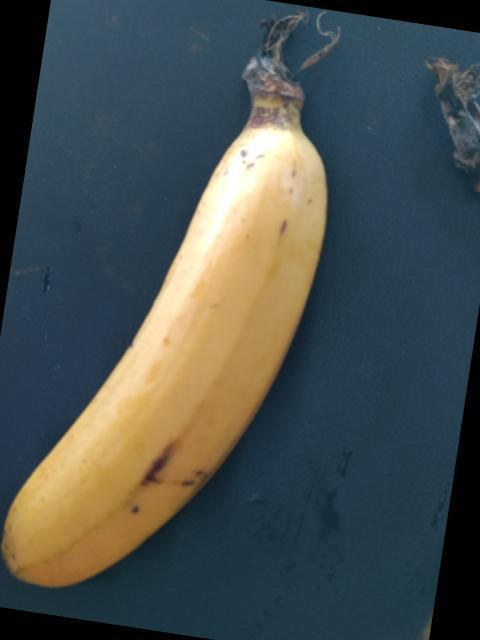freshripe: (0, 116, 331, 639)
